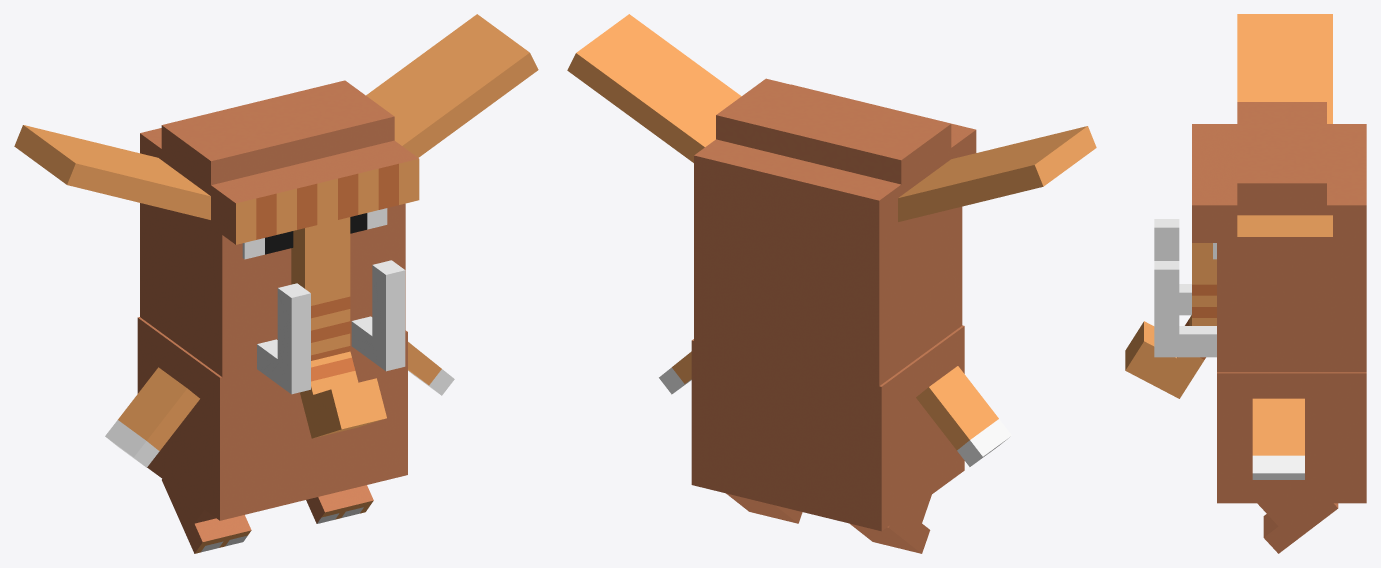
Rendered from Ch_42@Down.FBX.
The picture shows the model from 3 angles, left to right: view 1: azimuth 30°, elevation 25°; view 2: azimuth 150°, elevation 25°; view 3: azimuth 270°, elevation 25°; orthographic projection. The views are drawn at different scales.
Parts seen in each view (by area): view 1: Ch_42_Head, Ch_42, Ch_42_Ear_R, Ch_42_Ear_L, Ch_42_Nose, Ch_42_Hand_L, Ch_42_Leg_L, Ch_42_Leg_R, Ch_42_Eye_01, Ch_42_Hand_R; view 2: Ch_42_Head, Ch_42, Ch_42_Ear_R, Ch_42_Ear_L, Ch_42_Hand_L, Ch_42_Leg_L, Ch_42_Leg_R, Ch_42_Hand_R; view 3: Ch_42_Head, Ch_42, Ch_42_Ear_L, Ch_42_Hand_R, Ch_42_Nose, Ch_42_Leg_R, Ch_42_Ear_R.
Part boxes in pixels (x1,y1,x2,y2): Ch_42_Head: (140,80,419,394); Ch_42: (137,317,407,520); Ch_42_Ear_R: (366,14,538,157); Ch_42_Ear_L: (14,125,210,219); Ch_42_Nose: (300,351,386,438); Ch_42_Hand_L: (105,367,199,467); Ch_42_Leg_L: (162,479,251,553); Ch_42_Leg_R: (306,485,373,523); Ch_42_Eye_01: (242,208,387,259); Ch_42_Hand_R: (408,342,454,395); Ch_42_Head: (694,78,976,385); Ch_42: (691,325,964,531); Ch_42_Ear_R: (567,14,741,162); Ch_42_Ear_L: (898,126,1096,221); Ch_42_Hand_L: (916,366,1011,466); Ch_42_Leg_L: (850,495,931,553); Ch_42_Leg_R: (726,493,802,523); Ch_42_Hand_R: (659,351,691,394); Ch_42_Head: (1154,102,1366,372); Ch_42: (1217,372,1366,503); Ch_42_Ear_L: (1237,14,1332,123); Ch_42_Hand_R: (1252,398,1304,479); Ch_42_Nose: (1125,315,1205,398); Ch_42_Leg_R: (1257,503,1338,553); Ch_42_Ear_R: (1237,215,1332,236).
Bounding box in the file's own units: 16.19 × 14.5 × 7.9.
